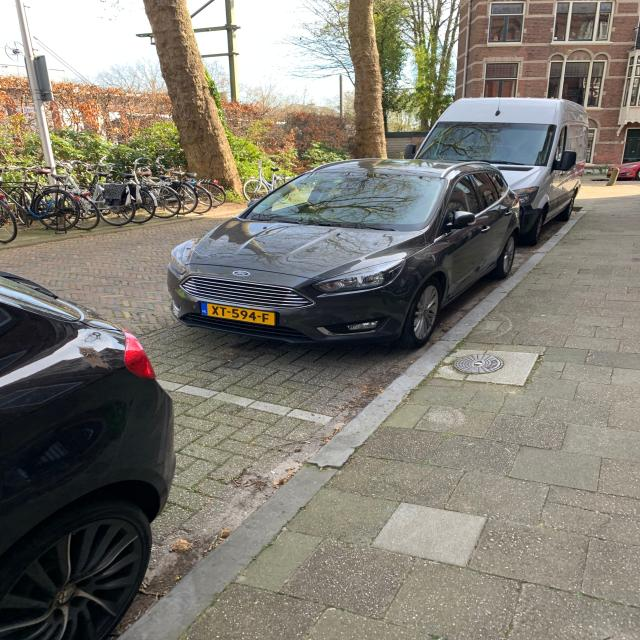plate: (200, 301, 277, 326)
